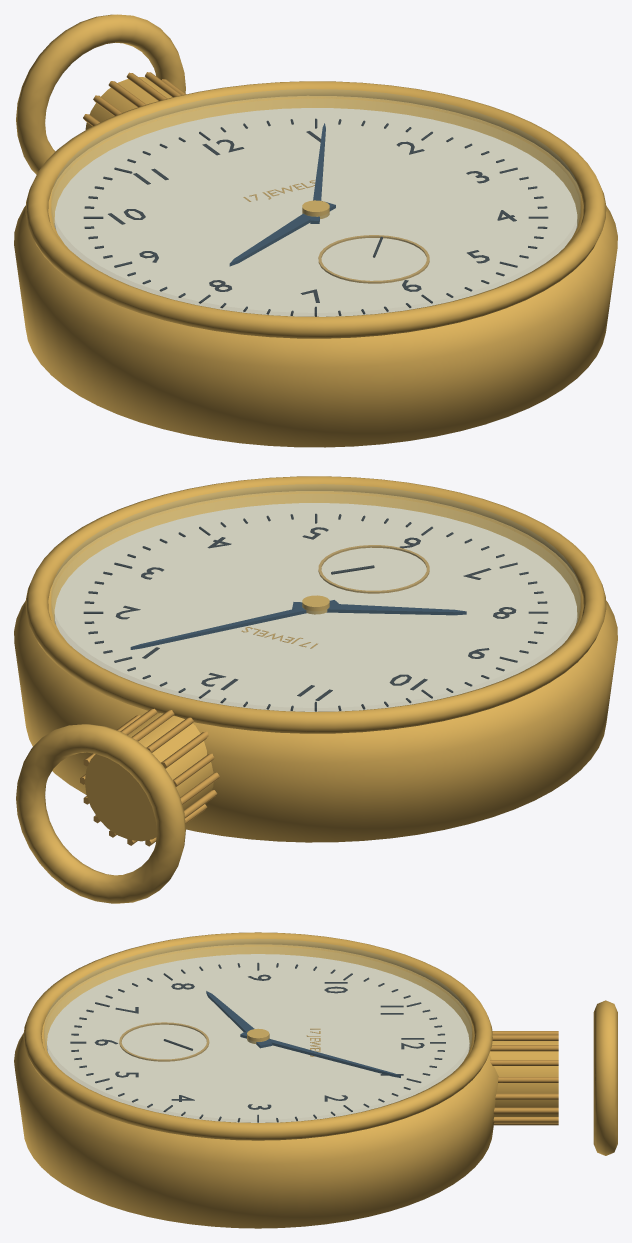
The model's file is 04_Pocket_Watch.glb.
3 views of the same model, one above another, from view 1: azimuth 30°, elevation 25°; view 2: azimuth 150°, elevation 25°; view 3: azimuth 270°, elevation 25° (orthographic). The views are drawn at different scales.
Visible parts, largest first — view 1: 01_case_crystal_and_crown, 02_dial_and_chapter_ring, 03_hands; view 2: 01_case_crystal_and_crown, 02_dial_and_chapter_ring, 03_hands; view 3: 01_case_crystal_and_crown, 02_dial_and_chapter_ring, 03_hands.
Part boxes in pixels (x1=…): 01_case_crystal_and_crown: x1=14, y1=14, x2=617, y2=447; 02_dial_and_chapter_ring: x1=54, y1=108, x2=577, y2=316; 03_hands: x1=229, y1=123, x2=382, y2=266; 01_case_crystal_and_crown: x1=14, y1=476, x2=617, y2=903; 02_dial_and_chapter_ring: x1=54, y1=503, x2=577, y2=711; 03_hands: x1=130, y1=565, x2=466, y2=649; 01_case_crystal_and_crown: x1=14, y1=932, x2=617, y2=1228; 02_dial_and_chapter_ring: x1=47, y1=954, x2=469, y2=1122; 03_hands: x1=163, y1=991, x2=400, y2=1077.
Size of the model in its own units: 0.052 by 0.0166 by 0.0643.
